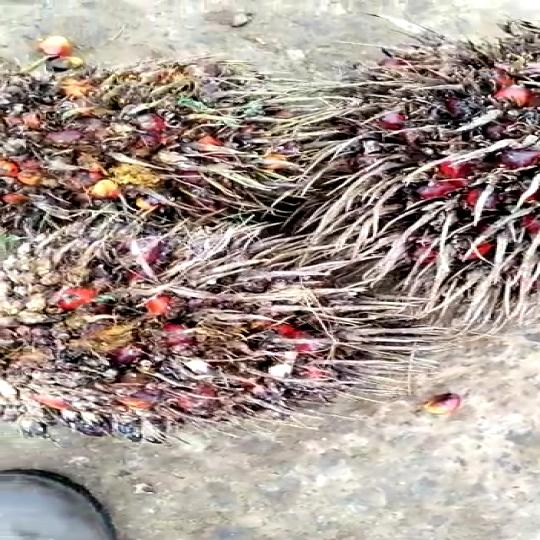terlalu masak: (0, 218, 395, 434), (0, 58, 290, 229)
